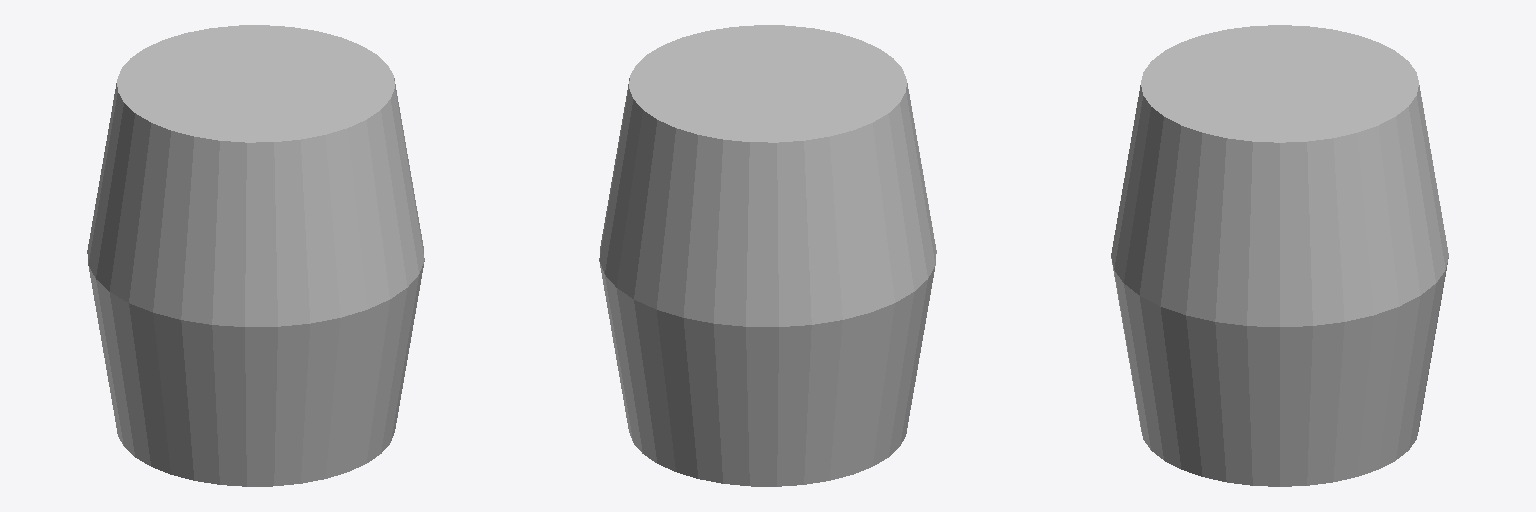
File: barrel3.obj
3 views of the same model, side by side, from view 1: azimuth 30°, elevation 25°; view 2: azimuth 150°, elevation 25°; view 3: azimuth 270°, elevation 25° (orthographic).
Visible parts, largest first — view 1: Cylinder; view 2: Cylinder; view 3: Cylinder.
Part boxes in pixels (bbox=[...]): Cylinder: bbox=[87, 25, 424, 486]; Cylinder: bbox=[599, 25, 936, 486]; Cylinder: bbox=[1111, 25, 1448, 486].
Bounding box in the file's own units: 2 × 2.25 × 2.